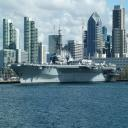Portanaves: (7, 27, 122, 87)
